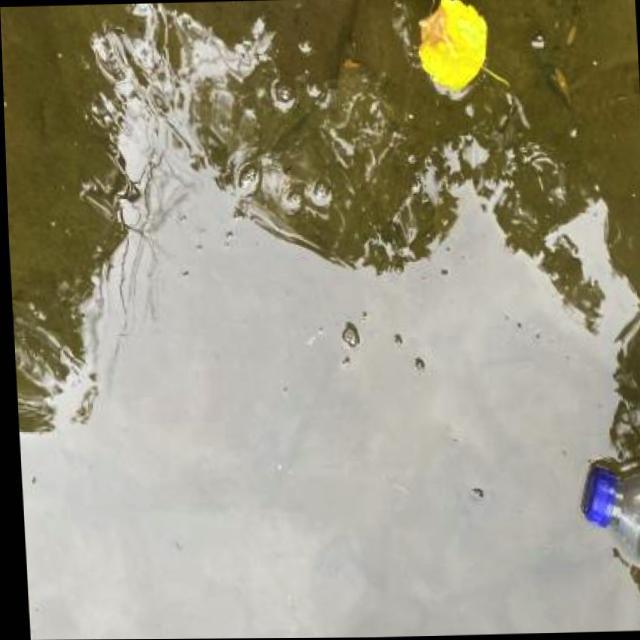Plastic: (567, 449, 640, 623)
